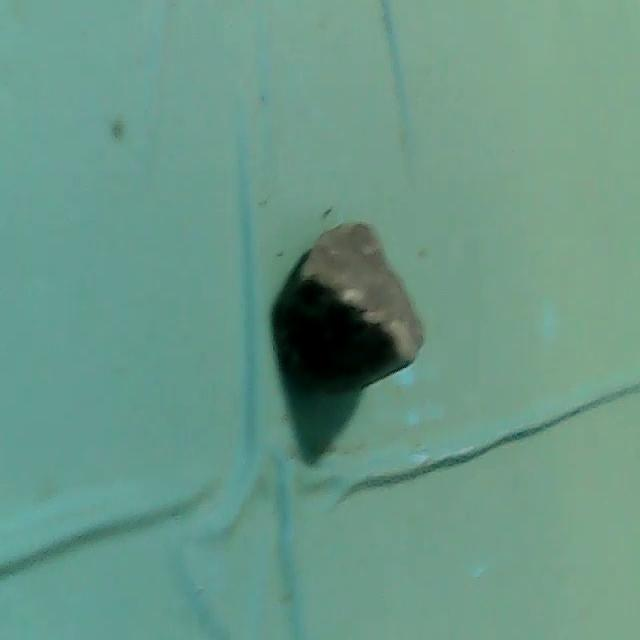rock: (265, 217, 430, 404)
